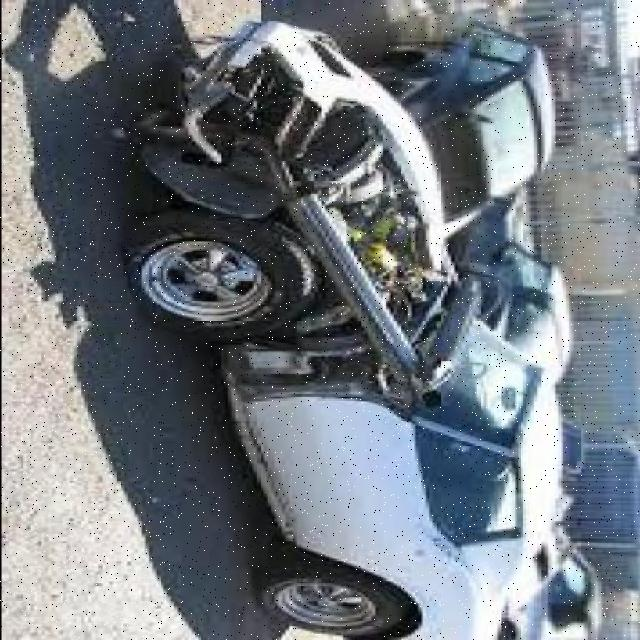damage: (159, 22, 478, 401)
